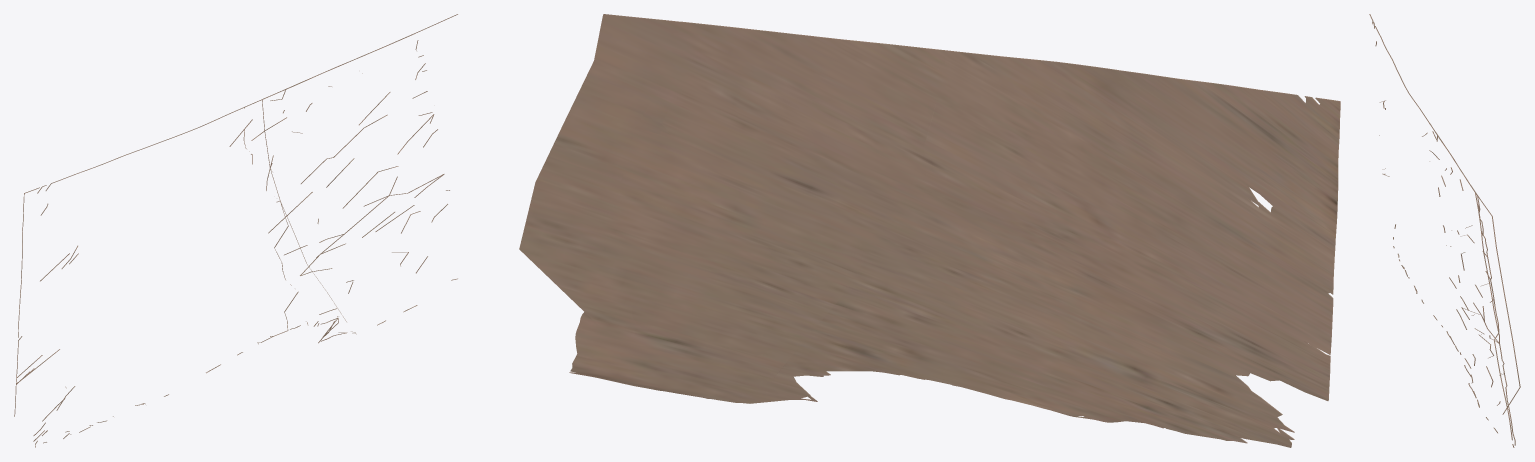
3 renders of one model, left to right at view 1: azimuth 30°, elevation 25°; view 2: azimuth 150°, elevation 25°; view 3: azimuth 270°, elevation 25°, orthographic. The views are drawn at different scales.
Bounding box in the file's own units: 53.24 × 26.27 × 15.34.
Materials: 1 (1 with a texture image).
